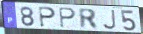5: (120, 9, 138, 32)
8: (19, 6, 36, 28)
J: (102, 9, 118, 31)
P: (58, 7, 78, 29), (38, 6, 57, 28)
R: (77, 7, 100, 30)
